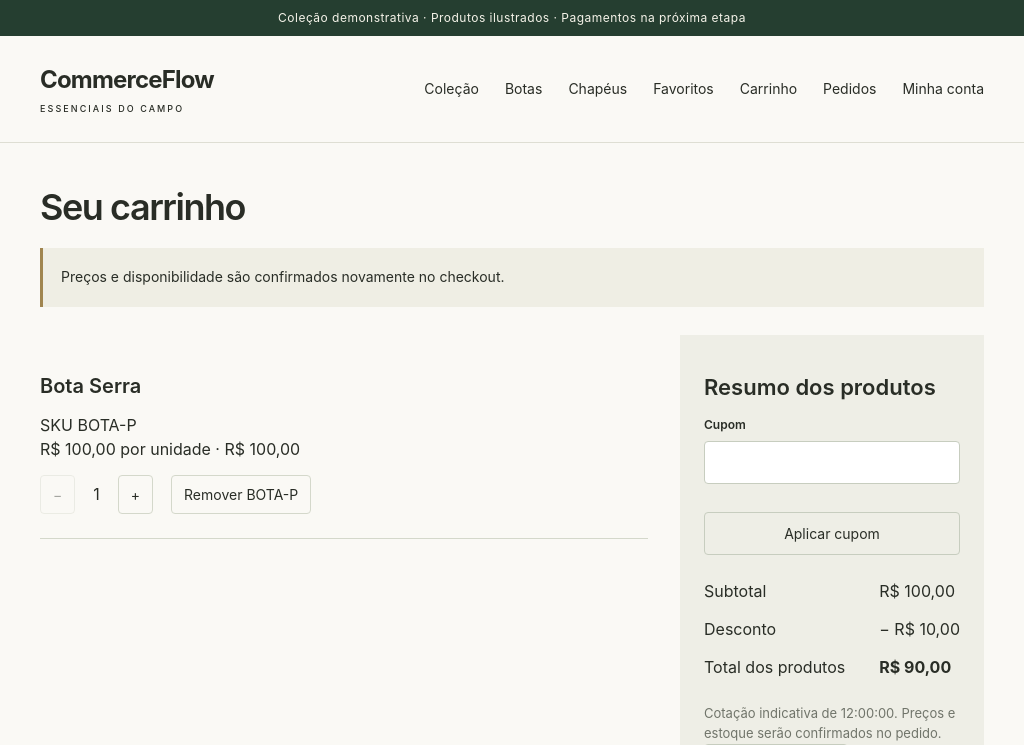
Cart and checkout › applies an uppercase coupon and blocks review on invalid pricing
The image size is (1024, 745).
Expected: the text "R$ 90,00" is shown, x1=879 y1=657 x2=951 y2=677
Type "invalido" into the field labelled "Cupom" at {"x": 832, "y": 462}, box x1=704 y1=441 x2=960 y2=484
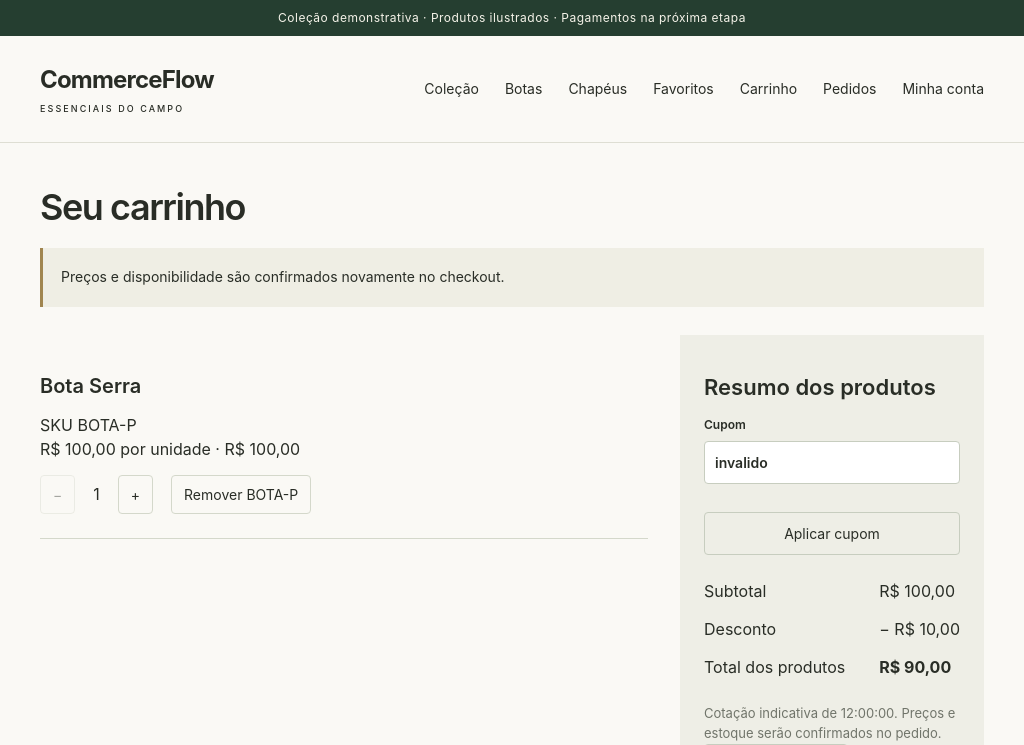
Click the button "Aplicar cupom" at {"x": 832, "y": 533}, box x1=704 y1=512 x2=960 y2=555
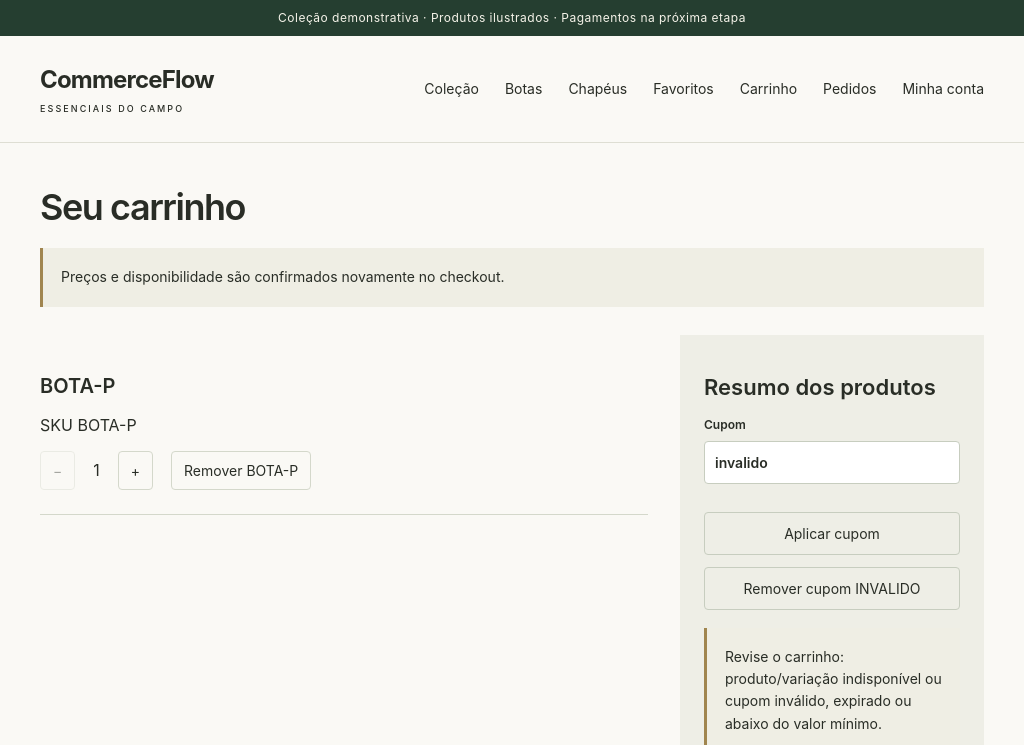
Expected: the button "Remover BOTA-P" is enabled, x1=171 y1=451 x2=311 y2=490
Now the message shows "cupom inválido", box x1=725 y1=648 x2=942 y2=732
